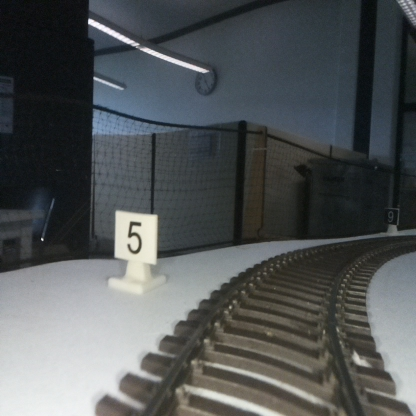black-stop-9: (384, 208, 397, 235)
white-stop-5: (115, 212, 155, 289)
